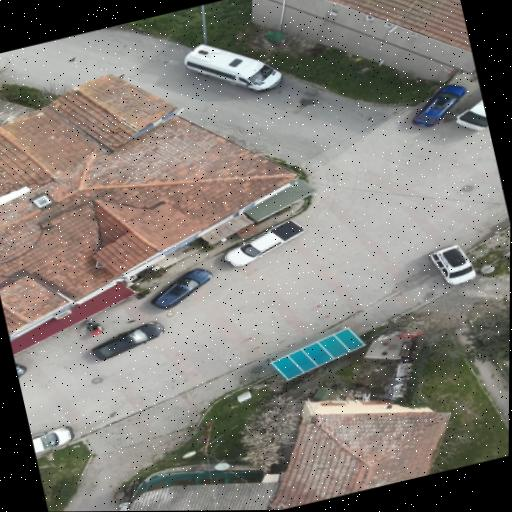car: (185, 43, 281, 91), (224, 220, 303, 266), (92, 323, 164, 360), (151, 269, 212, 310), (413, 85, 465, 127), (429, 246, 475, 285), (32, 426, 74, 453), (15, 364, 26, 378)
